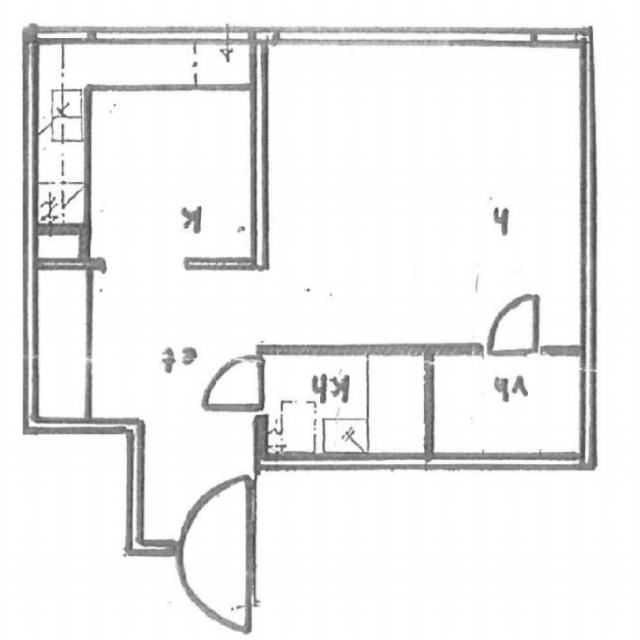door: (178, 539, 250, 627), (178, 468, 250, 554), (202, 358, 267, 410), (490, 295, 538, 354)
